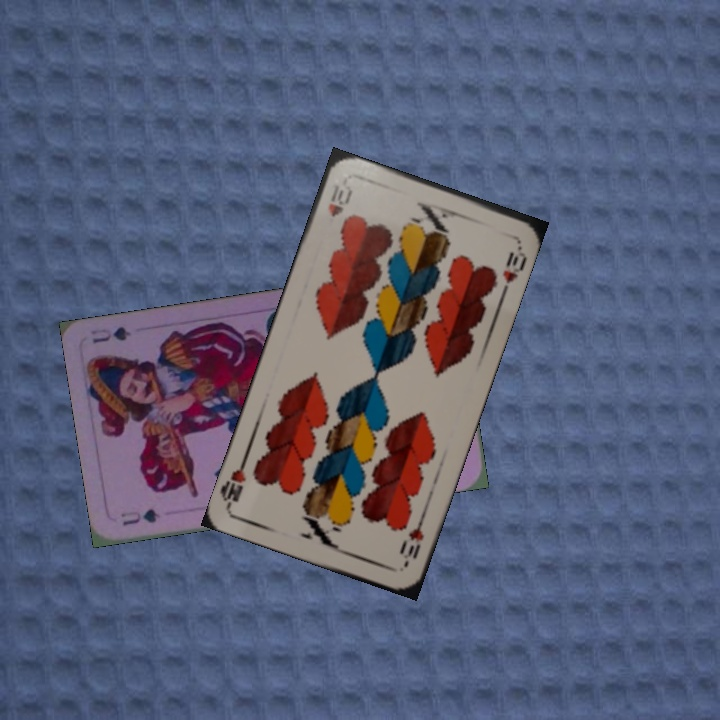GU: (116, 505, 163, 529)
H10: (396, 512, 427, 569), (323, 177, 354, 219)
